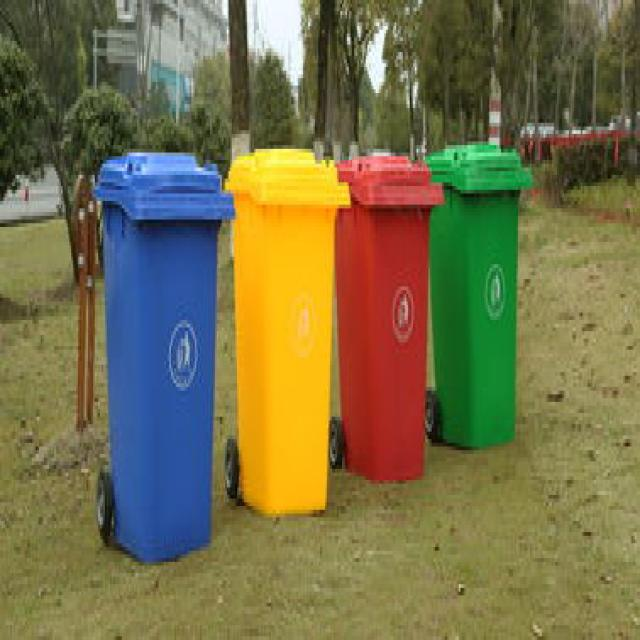garbage_bin: (92, 149, 234, 562), (222, 145, 349, 517), (333, 153, 442, 480), (420, 138, 532, 446)
